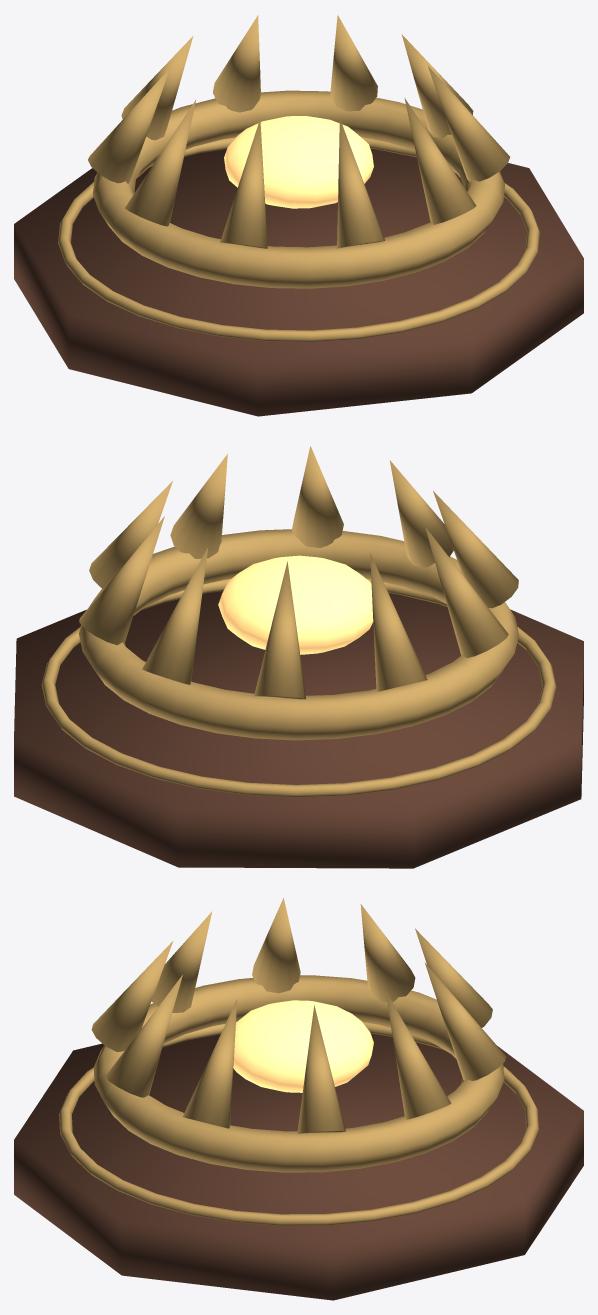
3 views of the same model, one above another, from view 1: azimuth 30°, elevation 25°; view 2: azimuth 150°, elevation 25°; view 3: azimuth 270°, elevation 25° (orthographic). The views are drawn at different scales.
Parts seen in each view (by area): view 1: Hexagonal plinth, Trap frame, Inlaid rim, Snare charge, Runic tooth.008, Runic tooth.009, Runic tooth.004, Runic tooth.007, Runic tooth.005, Runic tooth.006, Runic tooth.002, Runic tooth.001 (+2 smaller); view 2: Hexagonal plinth, Trap frame, Snare charge, Inlaid rim, Runic tooth.005, Runic tooth.001, Runic tooth.003, Runic tooth.004, Runic tooth.002, Runic tooth.006, Runic tooth.009, Runic tooth.008 (+2 smaller); view 3: Hexagonal plinth, Trap frame, Snare charge, Inlaid rim, Runic tooth.002, Runic tooth.001, Runic tooth.008, Runic tooth, Runic tooth.009, Runic tooth.007, Runic tooth.004, Runic tooth.005 (+2 smaller).
Part boxes in pixels (bbox=[...]): Hexagonal plinth: bbox=[14, 148, 583, 416]; Trap frame: bbox=[93, 90, 504, 288]; Inlaid rim: bbox=[58, 137, 539, 341]; Snare charge: bbox=[224, 116, 373, 208]; Runic tooth.008: bbox=[404, 98, 476, 224]; Runic tooth.009: bbox=[427, 65, 509, 182]; Runic tooth.004: bbox=[88, 68, 169, 183]; Runic tooth.007: bbox=[337, 118, 384, 248]; Runic tooth.005: bbox=[125, 99, 196, 226]; Runic tooth.006: bbox=[220, 119, 267, 248]; Runic tooth.002: bbox=[213, 15, 260, 112]; Runic tooth.001: bbox=[330, 15, 377, 111]; Hexagonal plinth: bbox=[14, 591, 583, 868]; Trap frame: bbox=[78, 529, 518, 740]; Snare charge: bbox=[218, 555, 373, 654]; Inlaid rim: bbox=[41, 578, 556, 797]; Runic tooth.005: bbox=[425, 526, 508, 658]; Runic tooth.001: bbox=[79, 516, 164, 645]; Runic tooth.003: bbox=[254, 561, 305, 699]; Runic tooth.004: bbox=[370, 553, 427, 691]; Runic tooth.002: bbox=[142, 547, 208, 684]; Runic tooth.006: bbox=[433, 491, 518, 608]; Runic tooth.009: bbox=[170, 453, 227, 558]; Runic tooth.008: bbox=[292, 446, 343, 547]; Hexagonal plinth: bbox=[14, 1033, 583, 1300]; Trap frame: bbox=[93, 975, 504, 1172]; Snare charge: bbox=[233, 1000, 373, 1092]; Inlaid rim: bbox=[59, 1021, 538, 1225]; Runic tooth.002: bbox=[424, 962, 506, 1080]; Runic tooth.001: bbox=[385, 991, 451, 1119]; Runic tooth.008: bbox=[105, 975, 182, 1097]; Runic tooth: bbox=[297, 1005, 345, 1134]; Runic tooth.009: bbox=[182, 999, 237, 1128]; Runic tooth.007: bbox=[91, 941, 172, 1052]; Runic tooth.004: bbox=[360, 904, 415, 1002]; Runic tooth.005: bbox=[252, 898, 300, 993].
Bounding box in the file's own units: 1.51 × 0.6696 × 1.51.
